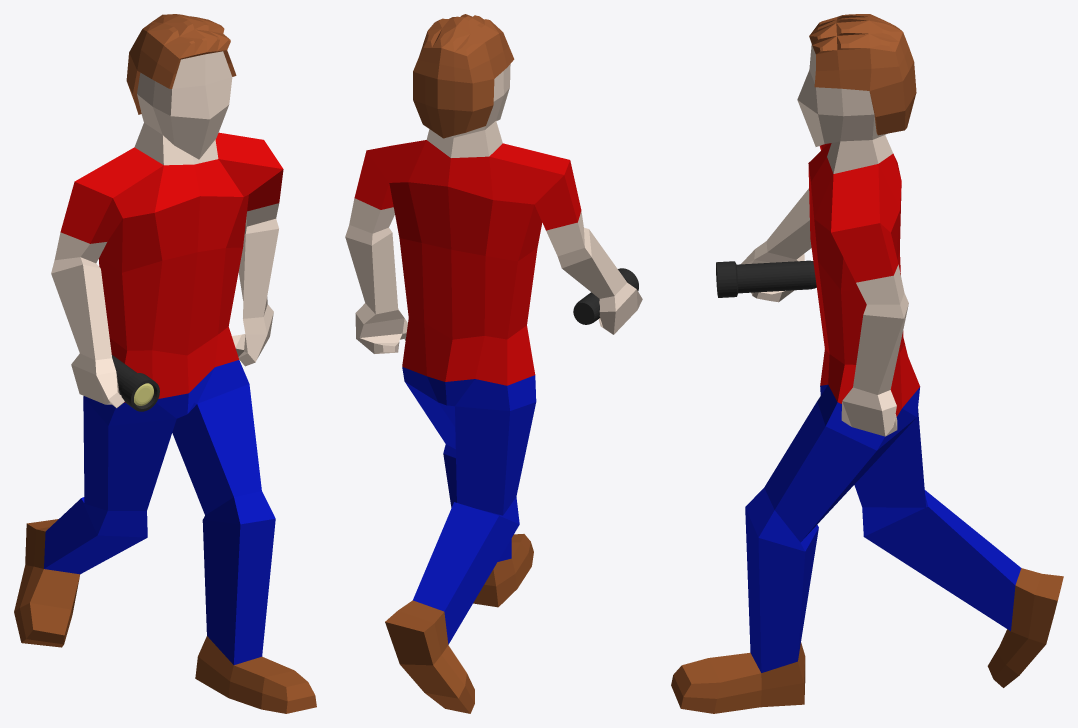
Rendered from Human_walking_13.fbx.
3 views of the same model, side by side, from view 1: azimuth 30°, elevation 25°; view 2: azimuth 150°, elevation 25°; view 3: azimuth 270°, elevation 25° (orthographic). The views are drawn at different scales.
Visible parts, largest first — view 1: Person.001, Cylinder.001; view 2: Person.001, Cylinder.001; view 3: Person.001, Cylinder.001.
Boxes of the visible parts, bbox=[...] form: Person.001: bbox=[14, 14, 316, 713]; Cylinder.001: bbox=[112, 355, 159, 411]; Person.001: bbox=[345, 14, 642, 713]; Cylinder.001: bbox=[573, 268, 638, 324]; Person.001: bbox=[671, 14, 1063, 713]; Cylinder.001: bbox=[716, 260, 816, 297].
Bounding box in the file's own units: 0.596 × 1.58 × 0.8102.
